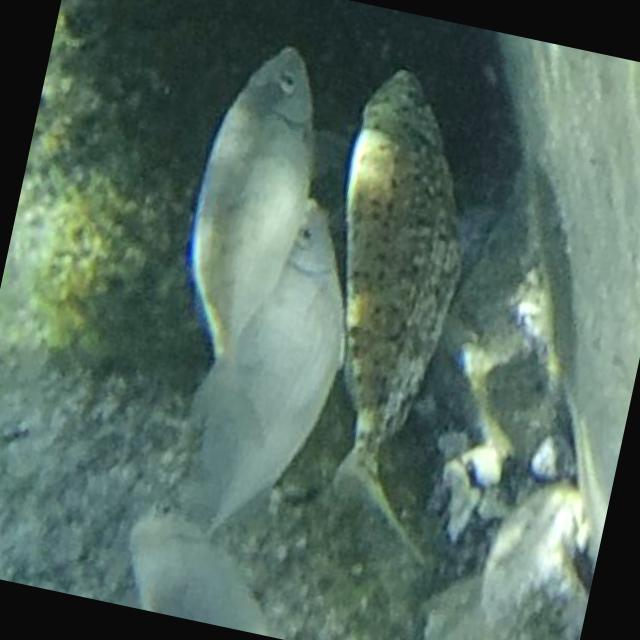Sokar Baligi: (256, 48, 541, 580), (132, 17, 351, 452)
